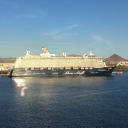cruises: (8, 47, 116, 79)
